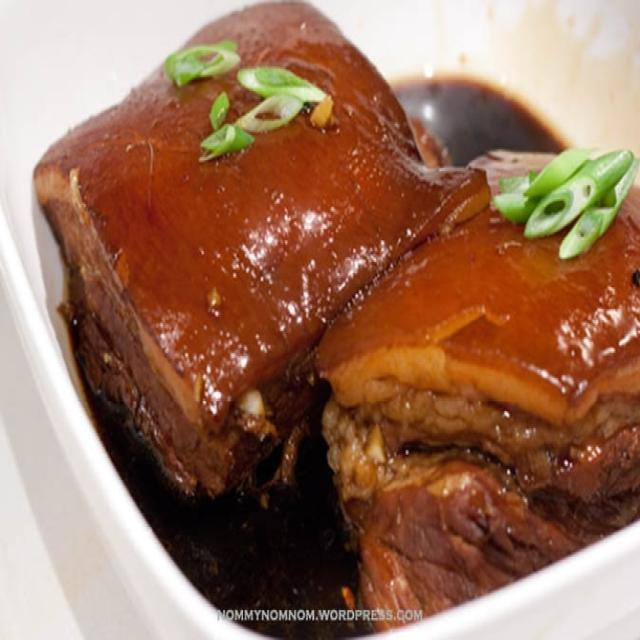牛肉菜式: (14, 17, 608, 573)
